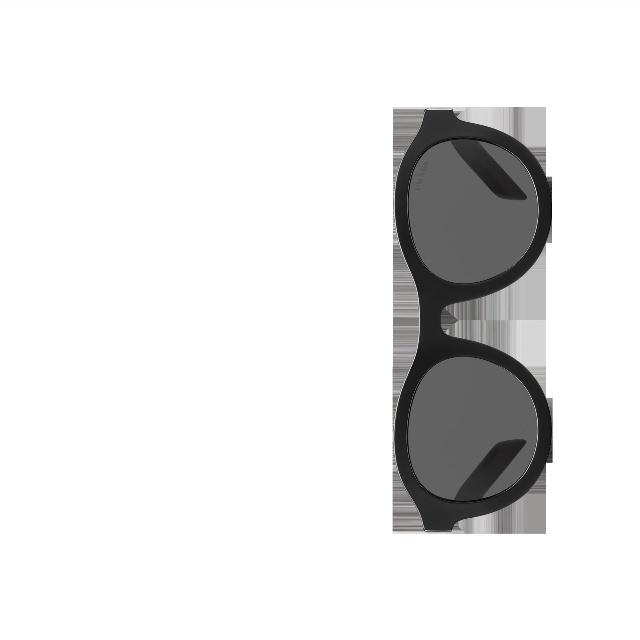Sunglasses: (388, 108, 560, 536)
